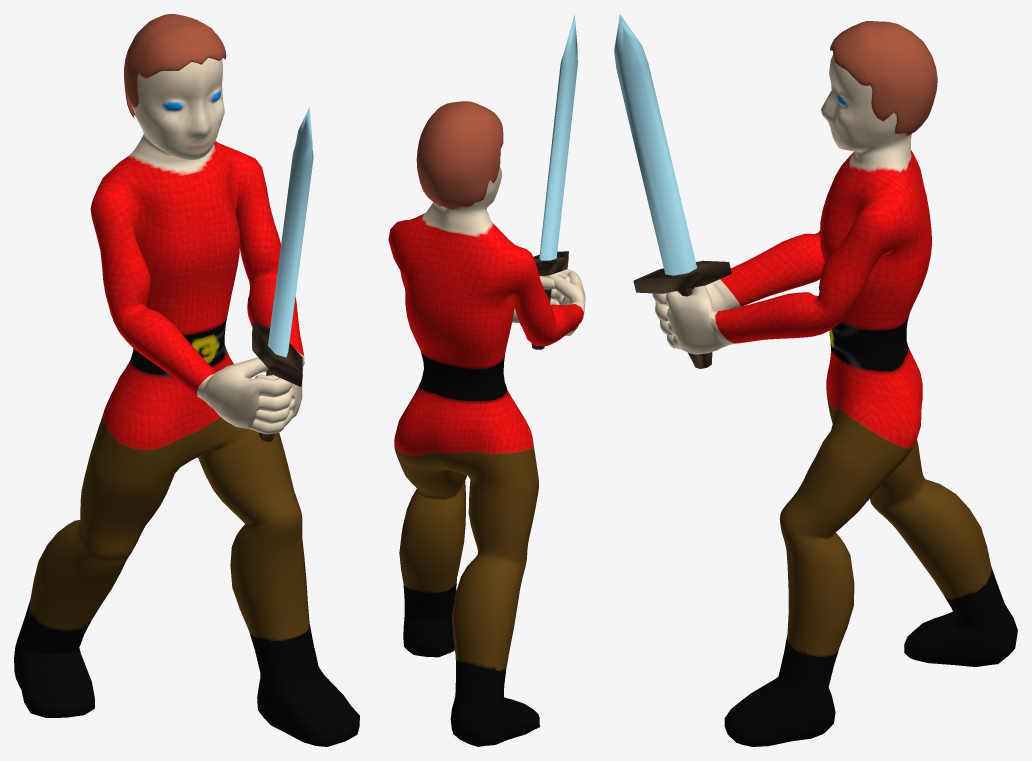
File: Player01Menus.dae
3 renders of one model, left to right at view 1: azimuth 30°, elevation 25°; view 2: azimuth 150°, elevation 25°; view 3: azimuth 270°, elevation 25°, orthographic. The views are drawn at different scales.
Visible parts, largest first — view 1: Player01ForMenus; view 2: Player01ForMenus; view 3: Player01ForMenus.
Boxes of the visible parts, bbox=[...] form: Player01ForMenus: bbox=[14, 14, 359, 746]; Player01ForMenus: bbox=[388, 15, 585, 746]; Player01ForMenus: bbox=[614, 14, 1017, 746].
Size of the model in its own units: 0.686 by 1.05 by 1.95.
Materials: 4 (1 with a texture image).
